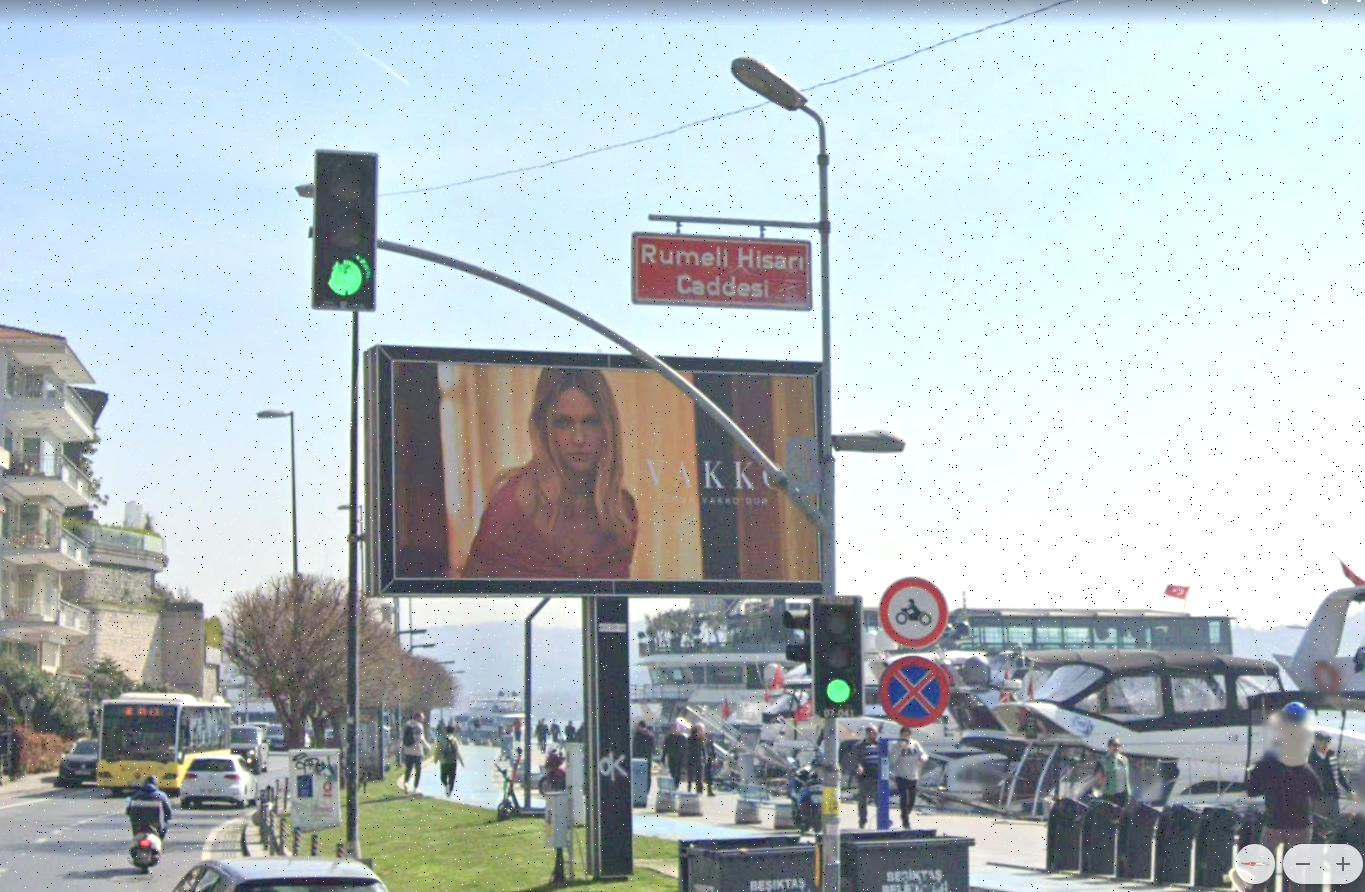greenlight: (315, 150, 377, 311), (811, 595, 864, 716)
